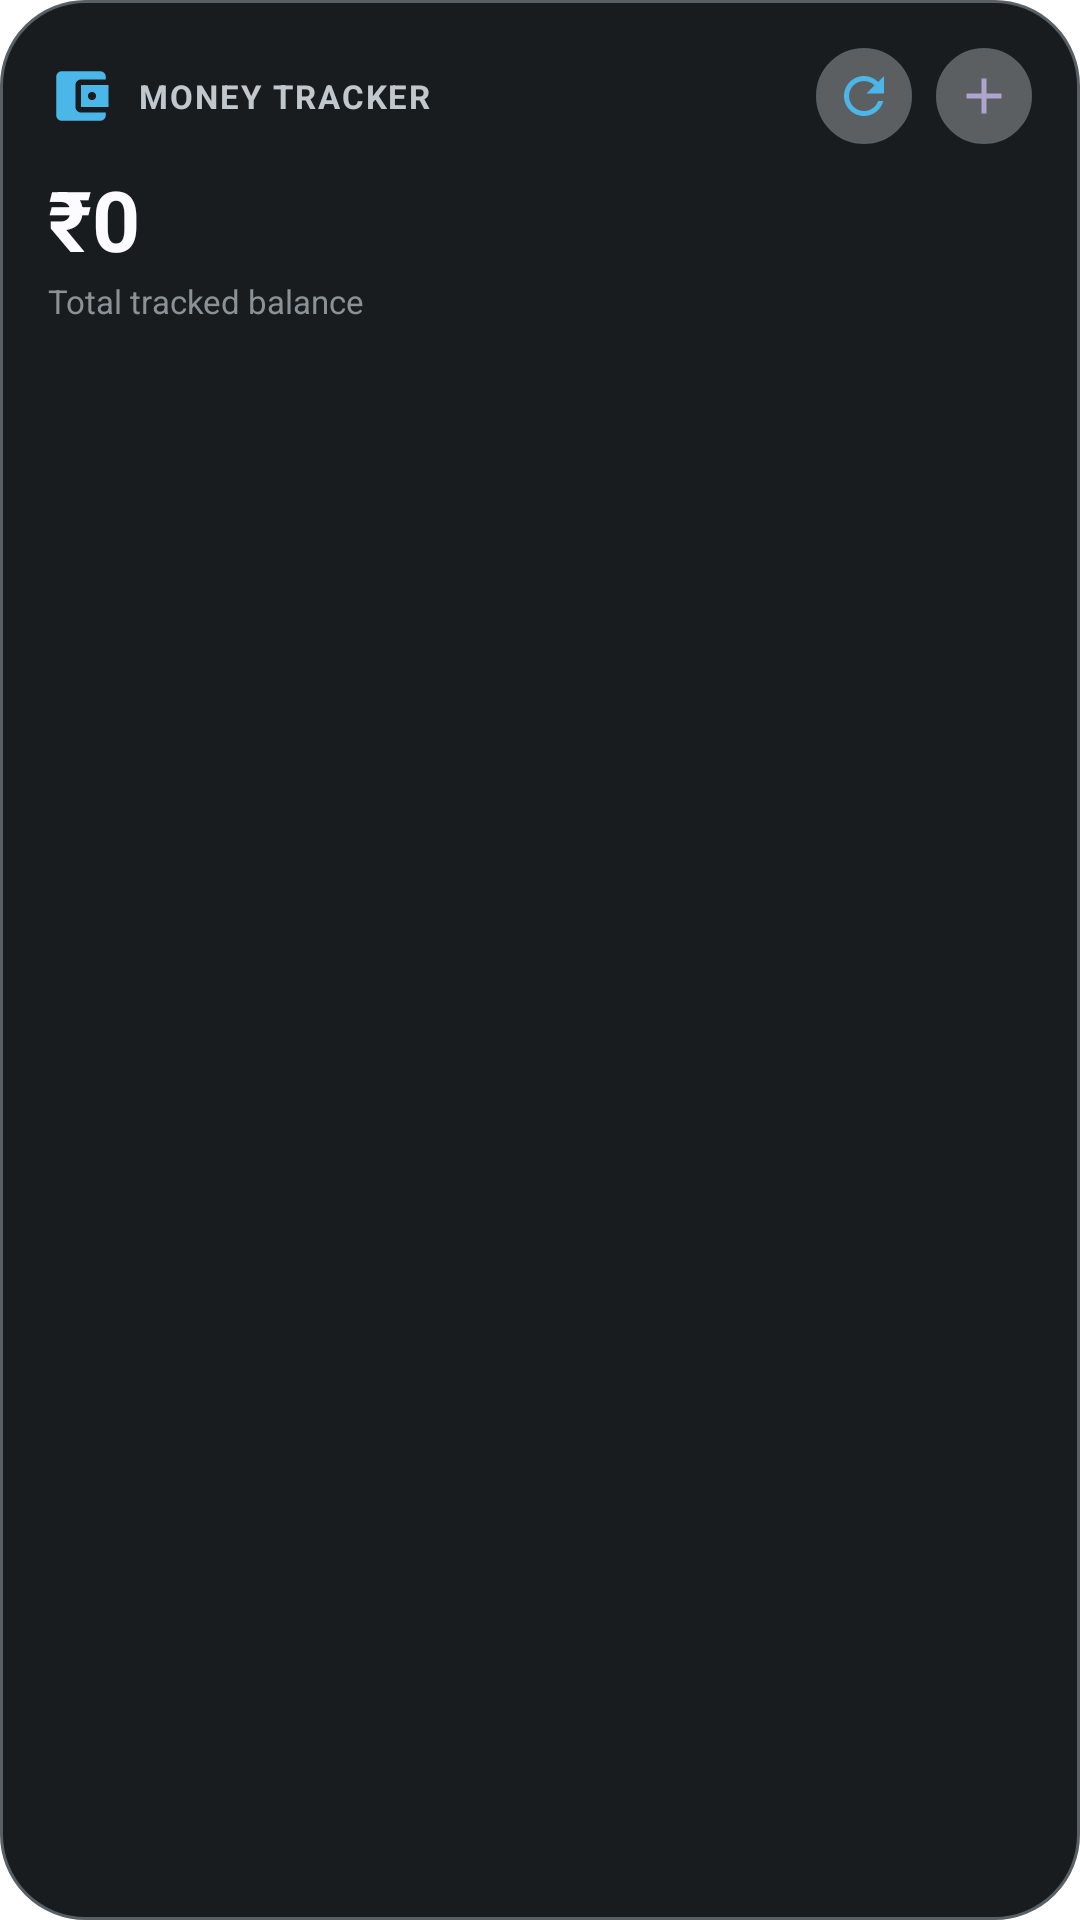

Screen size 1080w x 1920h. Icon name, then its center in pixels as (x,y):
Add Transaction: (984,96)
Refresh Balances: (864,96)
widget wallet: (82,96)
